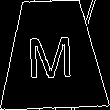M_N: (28, 29, 78, 80)
